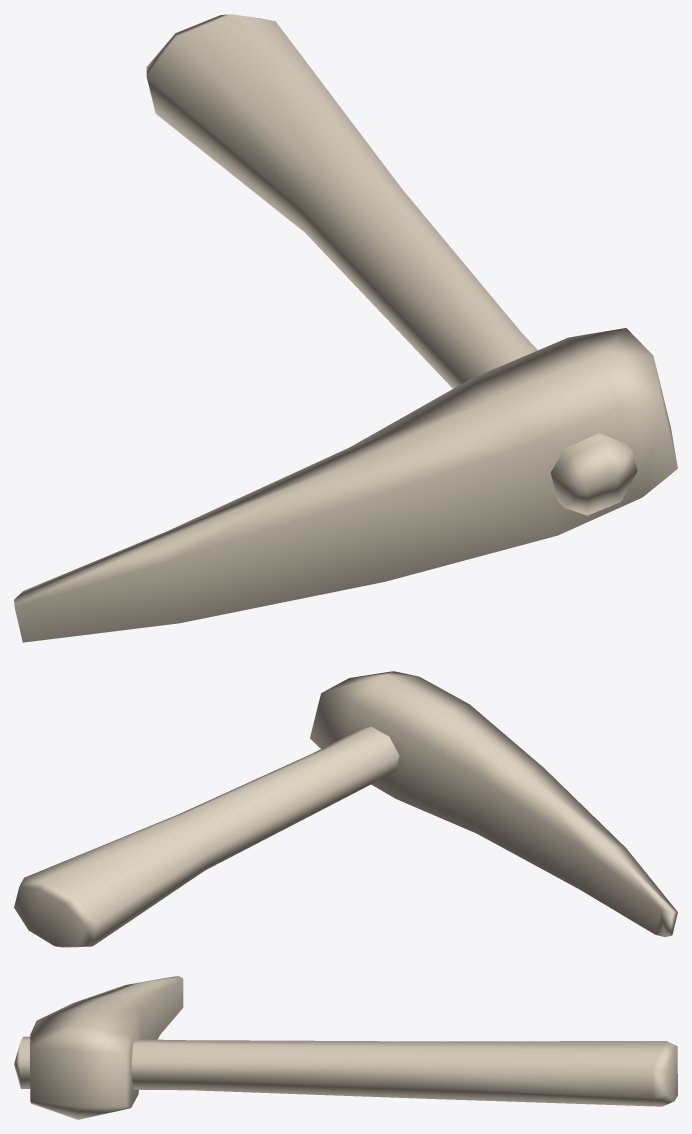
Rendered from pickaxe-base.glb.
The picture shows the model from 3 angles, top to bottom: view 1: azimuth 30°, elevation 25°; view 2: azimuth 150°, elevation 25°; view 3: azimuth 270°, elevation 25°; orthographic projection. The views are drawn at different scales.
Bounding box in the file's own units: 0.433 × 0.1421 × 0.5954.
